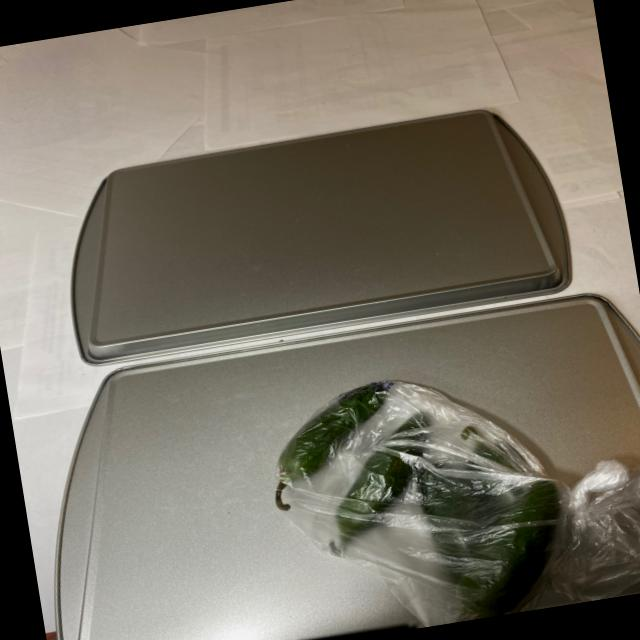chilli: (261, 353, 594, 640)
